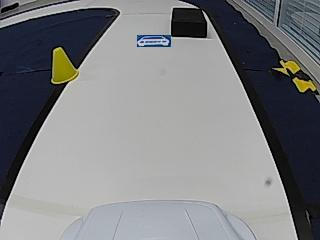block: (171, 8, 207, 37)
